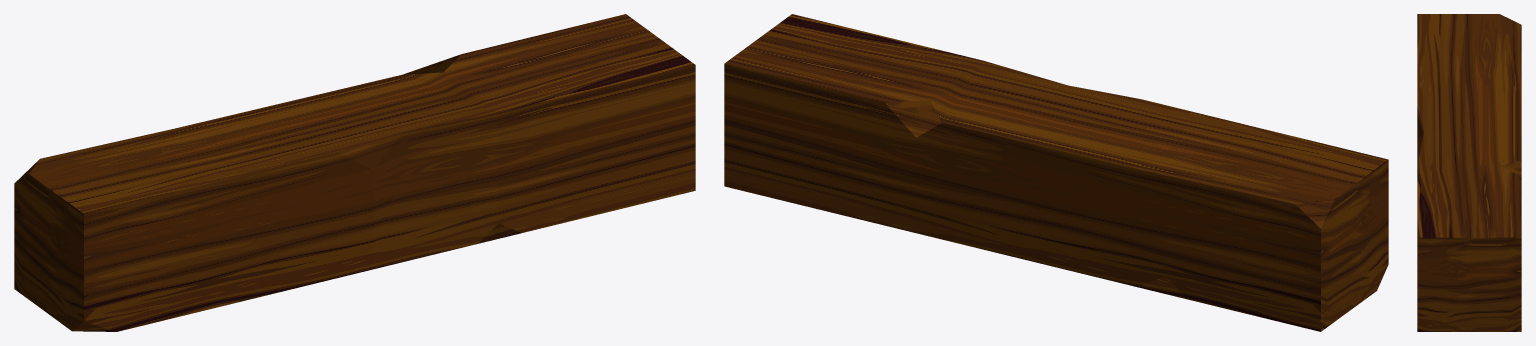
The model's file is beam_part2.glb.
3 views of the same model, side by side, from view 1: azimuth 30°, elevation 25°; view 2: azimuth 150°, elevation 25°; view 3: azimuth 270°, elevation 25° (orthographic). The views are drawn at different scales.
Parts seen in each view (by area): view 1: Cube.001; view 2: Cube.001; view 3: Cube.001.
Part boxes in pixels (bbox=[...]): Cube.001: bbox=[14, 14, 695, 331]; Cube.001: bbox=[724, 14, 1388, 331]; Cube.001: bbox=[1417, 14, 1521, 331].
Size of the model in its own units: 5.59 by 1.1 by 1.1.
Materials: 1 (1 with a texture image).
